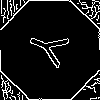Y: (25, 25, 79, 73)
